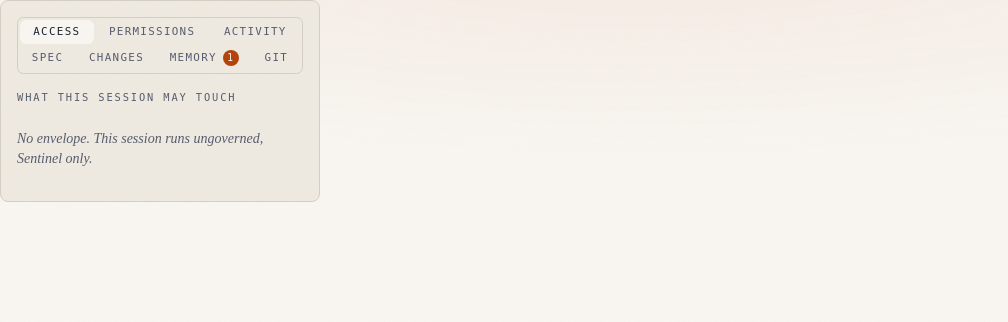
Scenario: RightPane memory tab › badges the proposal count and shows the review and pins
expect the text named "1 proposals" is shown: met, box [223, 50, 239, 66]
Click the tab "memory 1" at (204, 58), box [158, 46, 251, 71]
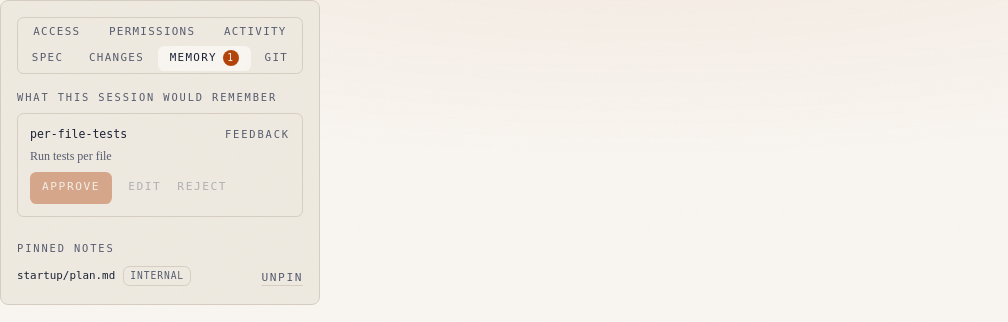
expect the element named "proposal per-file-tests" is shown: met, box [17, 113, 303, 216]
expect the text "startup/plan.md" is shown: met, box [17, 268, 115, 284]
